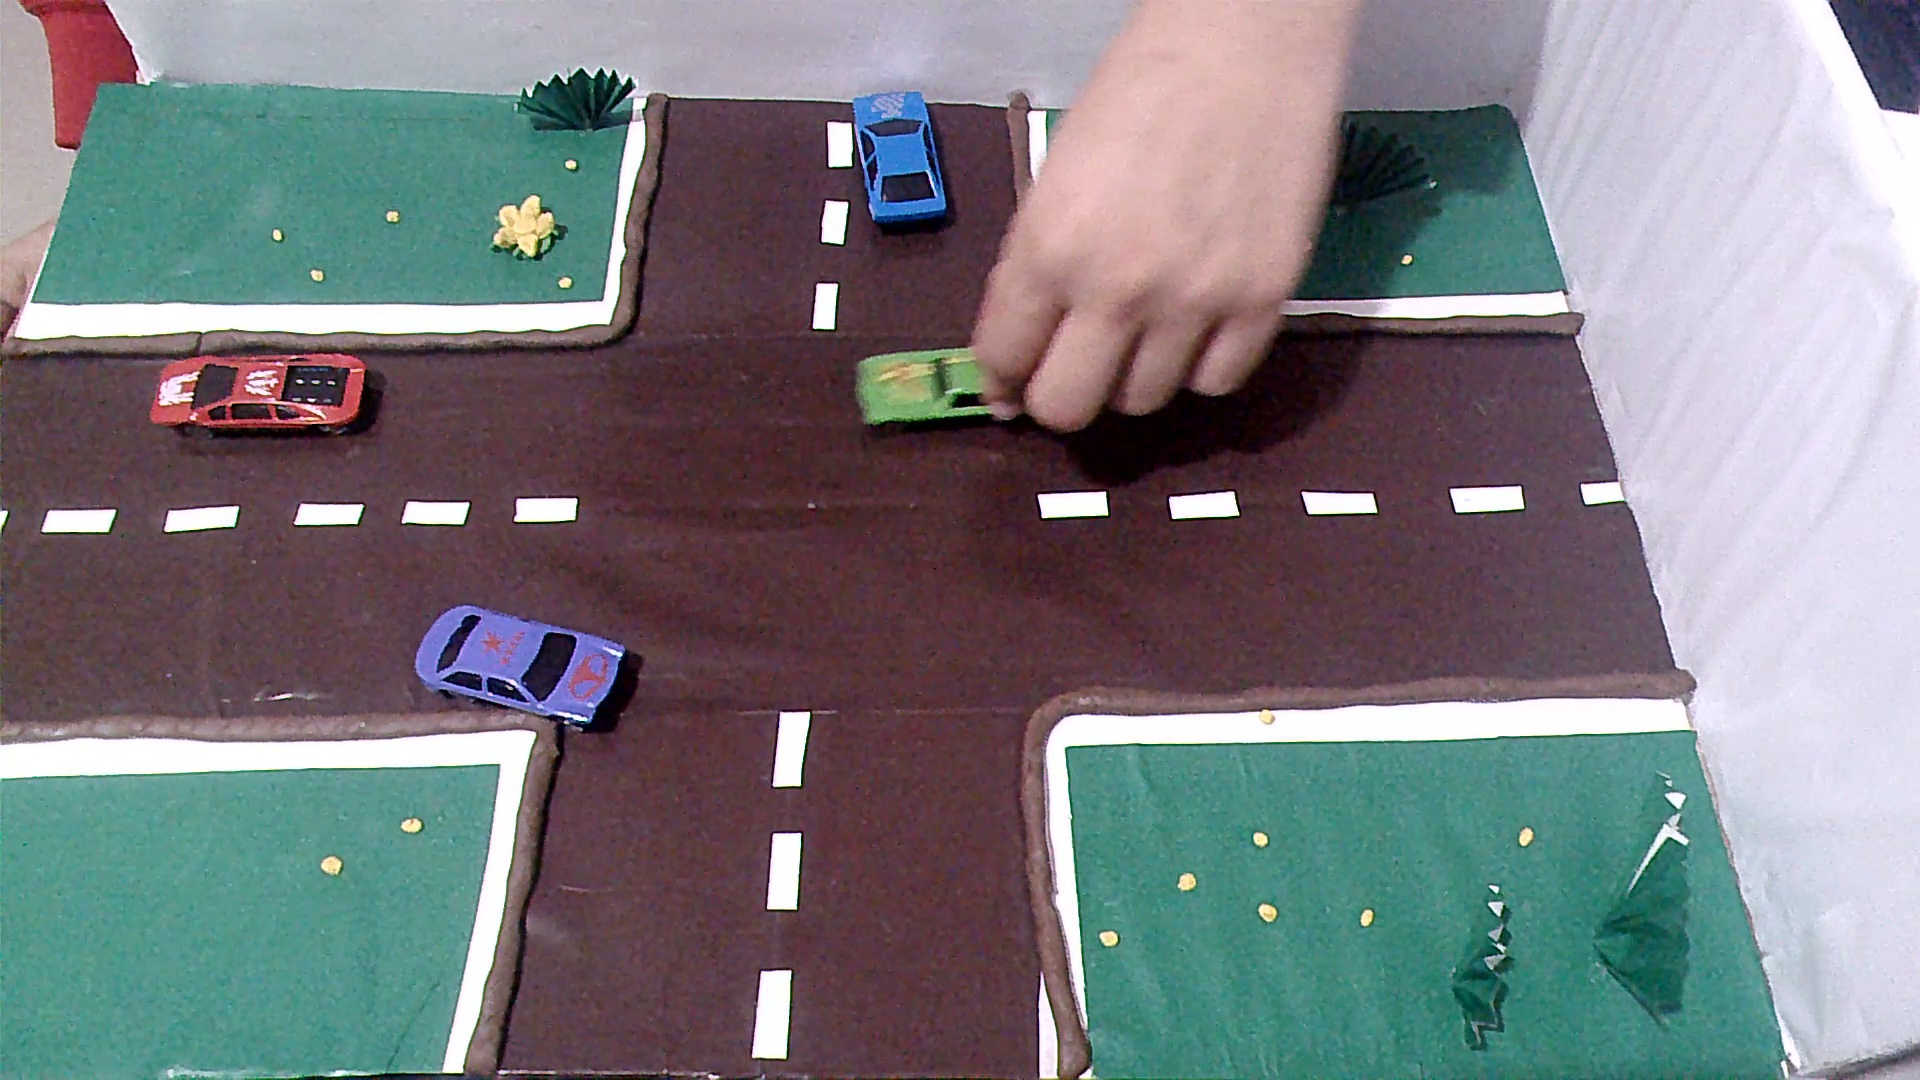car: (404, 604, 626, 735), (853, 345, 1081, 433), (146, 351, 369, 436), (851, 88, 949, 227)
